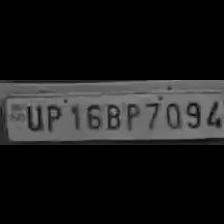0: (160, 97, 182, 128)
1: (64, 99, 82, 131)
4: (202, 96, 222, 128)
6: (82, 98, 102, 130)
7: (142, 96, 160, 130)
9: (182, 96, 202, 128)
B: (102, 97, 122, 130)
P: (42, 100, 64, 132), (122, 97, 142, 130)
U: (22, 99, 44, 130)
